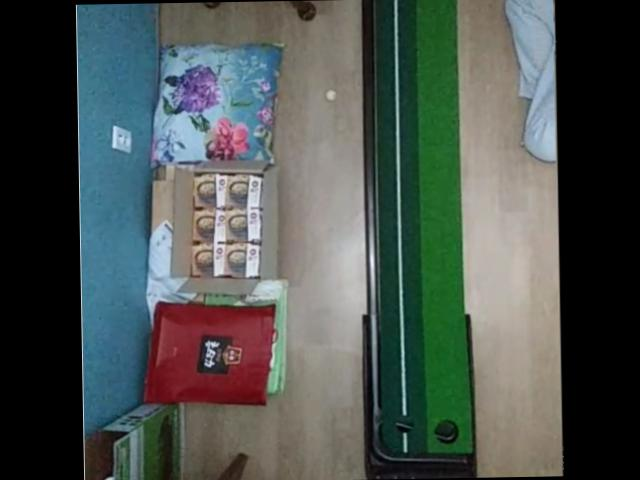golf_ball: (324, 86, 339, 101)
green_zone: (374, 0, 472, 453)
hole: (433, 418, 459, 443), (395, 414, 414, 432)
